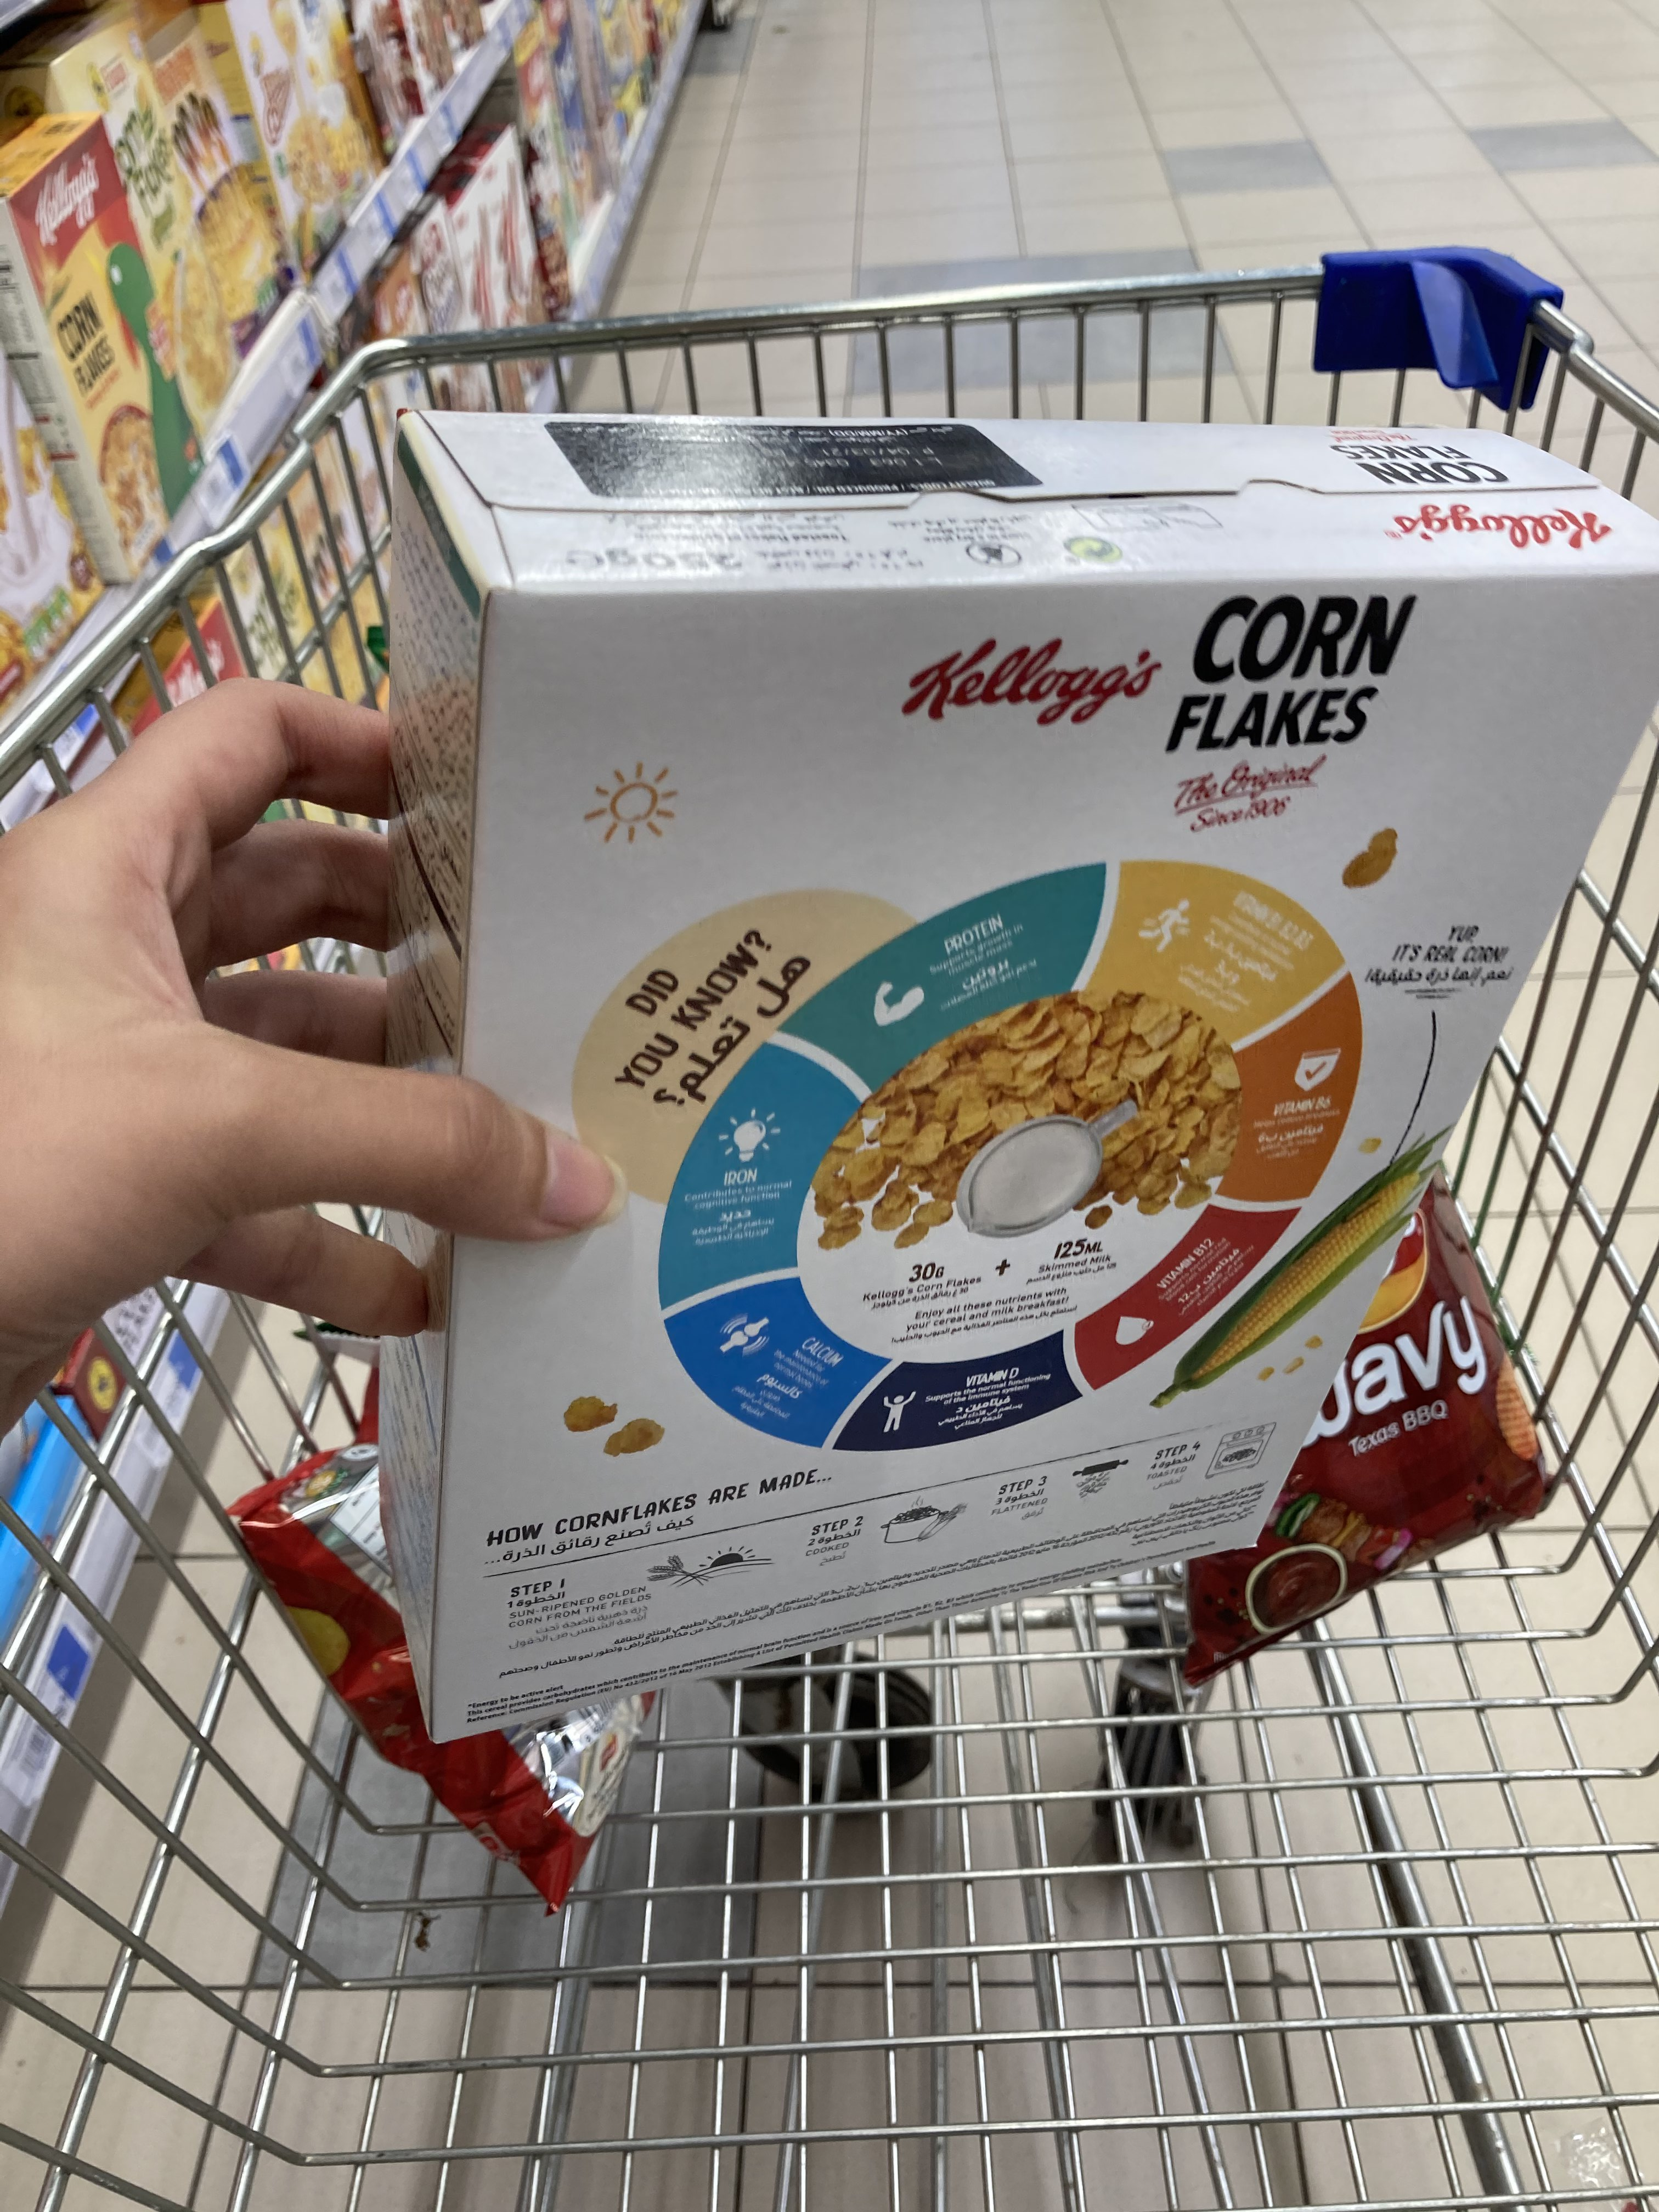Kellogg's Corn Flakes: (375, 404, 1659, 1754)
